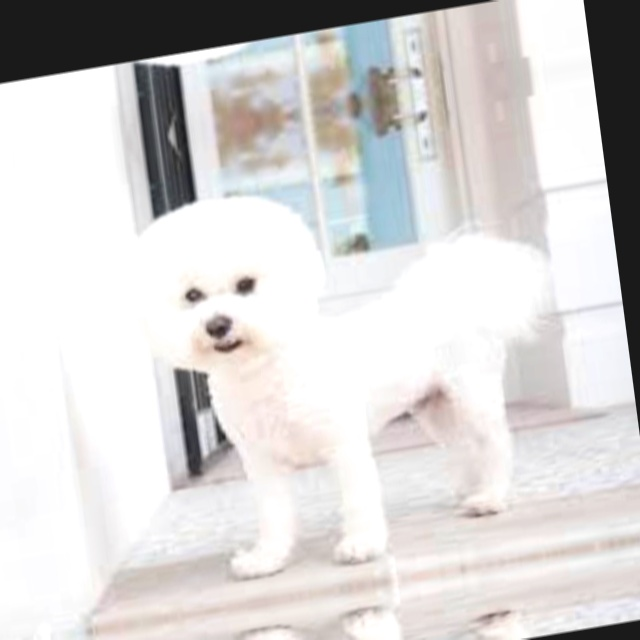dog: (118, 128, 617, 590), (101, 0, 552, 88), (176, 569, 631, 640)
